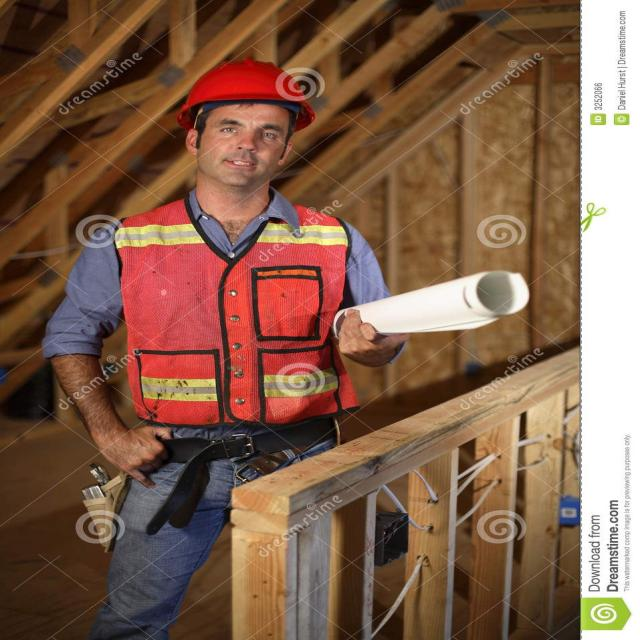helmet: (157, 50, 337, 127)
vest: (81, 192, 384, 433)
